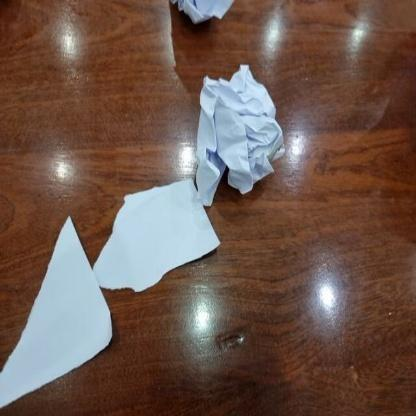trash: (0, 215, 112, 416), (89, 179, 220, 290), (197, 64, 285, 206), (170, 0, 240, 21)
